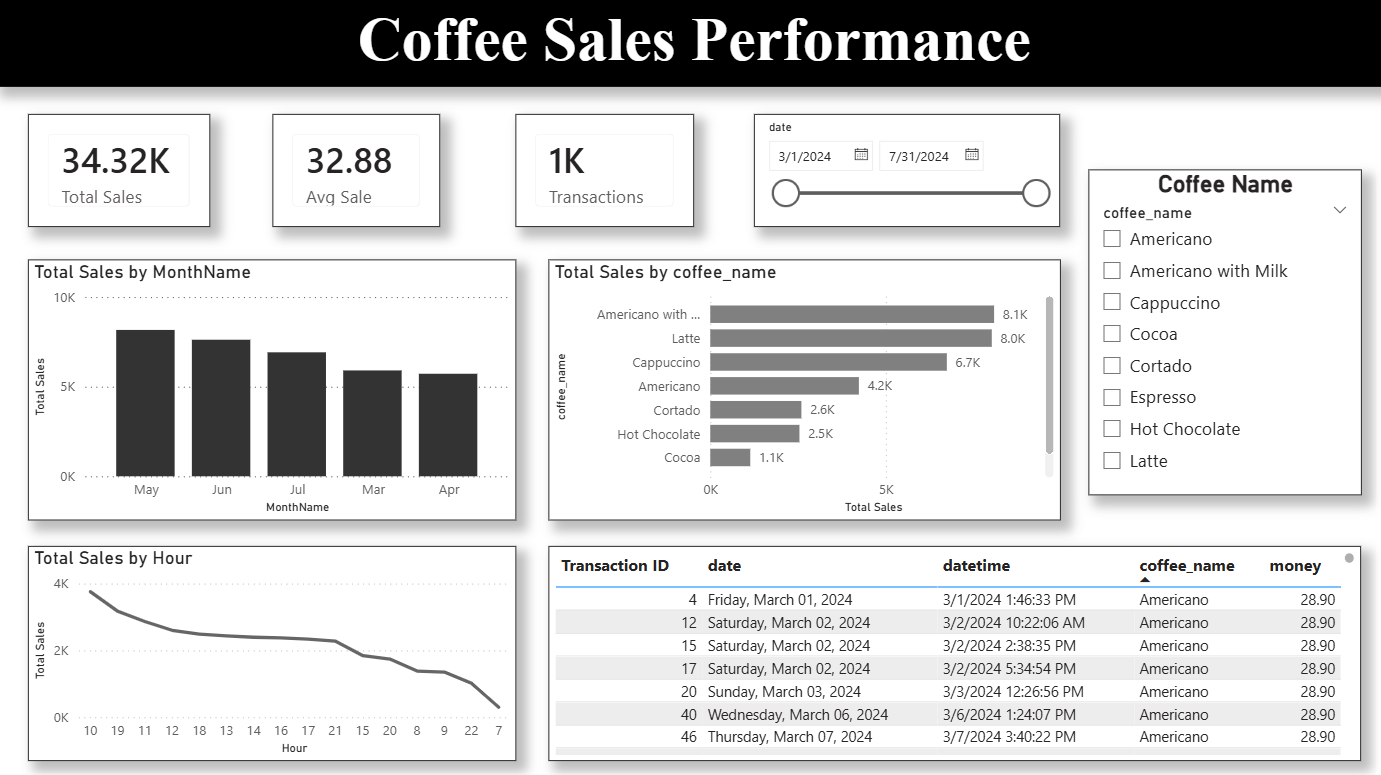

Layout of this report page (visuals, bound fields, positions):
{"tool":"powerbi","page":{"name":"Page 1","canvas":[1280,720],"ordinal":0},"visuals":[{"type":"slicer","fields":{"Values":["index.date"]},"box":[695,106.7,280,103.3],"z":0},{"type":"slicer","title":"Coffee Name","fields":{"Values":["index.coffee_name"]},"box":[1000.4,157.8,249.8,297.8],"z":1},{"type":"cardVisual","title":"Total Sales","fields":{"Data":["index.Total Sales"]},"box":[30,106.7,166.7,103.3],"z":2},{"type":"cardVisual","fields":{"Data":["index.Avg Sale"]},"box":[253.3,106.7,153.3,103.3],"z":3},{"type":"cardVisual","fields":{"Data":["index.Transactions"]},"box":[476.7,106.7,163.3,103.3],"z":4},{"type":"lineClusteredColumnComboChart","fields":{"Category":["index.MonthName"],"Y":["index.Total Sales"]},"box":[30,240,446.7,238.3],"z":5},{"type":"clusteredBarChart","fields":{"Y":["index.Total Sales"],"Category":["index.coffee_name"]},"box":[506.7,240,468.3,238.3],"z":6},{"type":"lineChart","fields":{"Category":["index.Hour"],"Y":["index.Total Sales"]},"box":[30,501.7,446.7,196.7],"z":7},{"type":"tableEx","fields":{"Values":["index.Transaction ID","index.date","index.datetime","index.coffee_name","index.money"]},"box":[506.7,501.7,743.3,196.7],"z":8},{"type":"textbox","box":[0,0,1280,81.7],"z":9}]}

Visuals, with their boxes in screenshot pixels (x1, y1, x2, y2), scaled from the page's 1280x720 canvas onto the 1381x775 screenshot:
slicer - index.date: Rect(750, 115, 1052, 226)
"Coffee Name" slicer: Rect(1079, 170, 1349, 490)
"Total Sales" cardVisual: Rect(32, 115, 212, 226)
cardVisual - index.Avg Sale: Rect(273, 115, 439, 226)
cardVisual - index.Transactions: Rect(514, 115, 690, 226)
lineClusteredColumnComboChart - index.MonthName x index.Total Sales: Rect(32, 258, 514, 515)
clusteredBarChart - index.Total Sales x index.coffee_name: Rect(547, 258, 1052, 515)
lineChart - index.Hour x index.Total Sales: Rect(32, 540, 514, 752)
tableEx - index.Transaction ID x index.date: Rect(547, 540, 1349, 752)
textbox: Rect(0, 0, 1380, 88)
